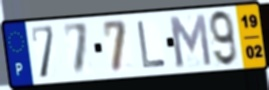7: (101, 18, 131, 75), (61, 23, 90, 78), (30, 24, 55, 81)
9: (208, 9, 239, 69)
L: (136, 19, 168, 70)
M: (166, 12, 214, 69)
